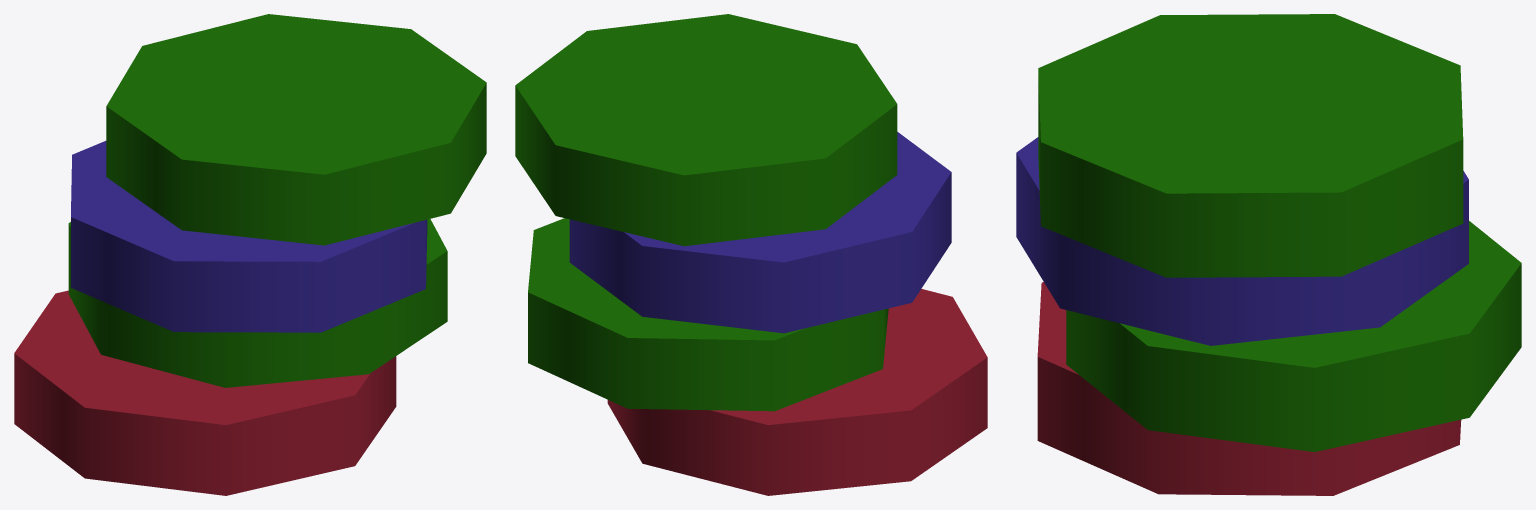
The model's file is moeda_poquer_pilha_dois.fbx.
3 views of the same model, side by side, from view 1: azimuth 30°, elevation 25°; view 2: azimuth 150°, elevation 25°; view 3: azimuth 270°, elevation 25° (orthographic). The views are drawn at different scales.
Parts seen in each view (by area): view 1: moeda_poquer_pilha_dois; view 2: moeda_poquer_pilha_dois; view 3: moeda_poquer_pilha_dois.
Boxes of the visible parts, x1,y1,x2,y2 form: moeda_poquer_pilha_dois: (14, 14, 486, 495); moeda_poquer_pilha_dois: (515, 14, 987, 495); moeda_poquer_pilha_dois: (1016, 14, 1521, 495).
Size of the model in its own units: 6.58 by 4.68 by 6.04.
